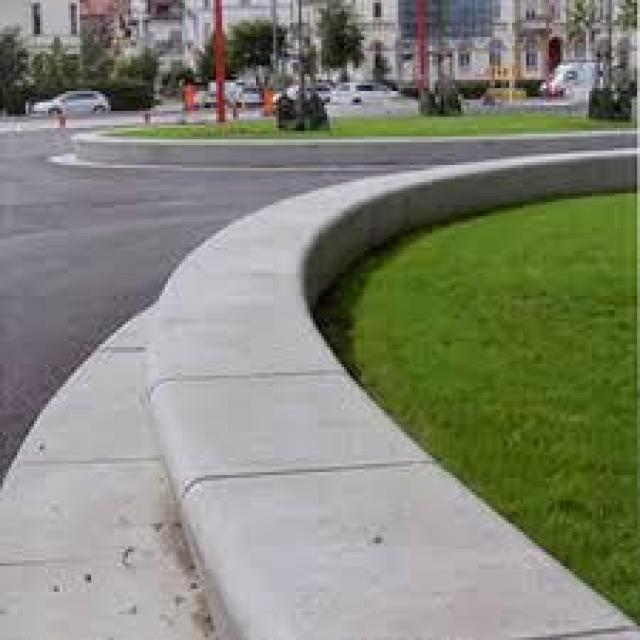curb: (137, 321, 623, 636), (208, 169, 424, 303), (426, 144, 639, 239), (138, 251, 326, 350), (76, 136, 529, 163)
